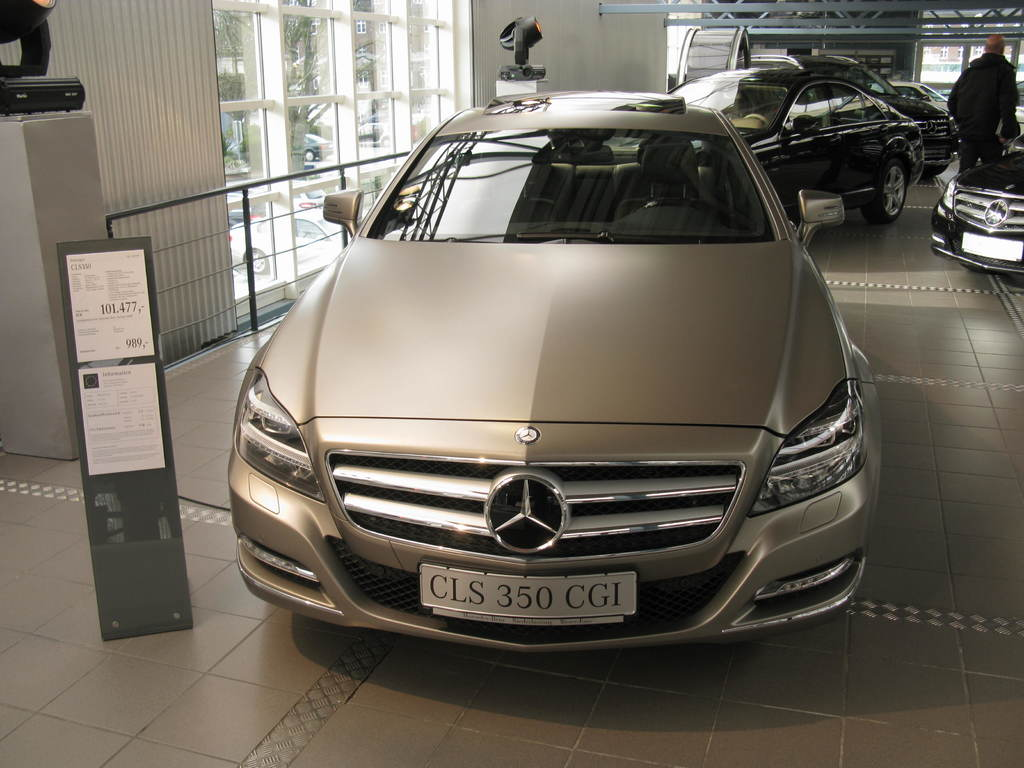Car: (213, 69, 892, 673), (680, 58, 929, 224), (778, 54, 966, 180), (929, 123, 1023, 286)
